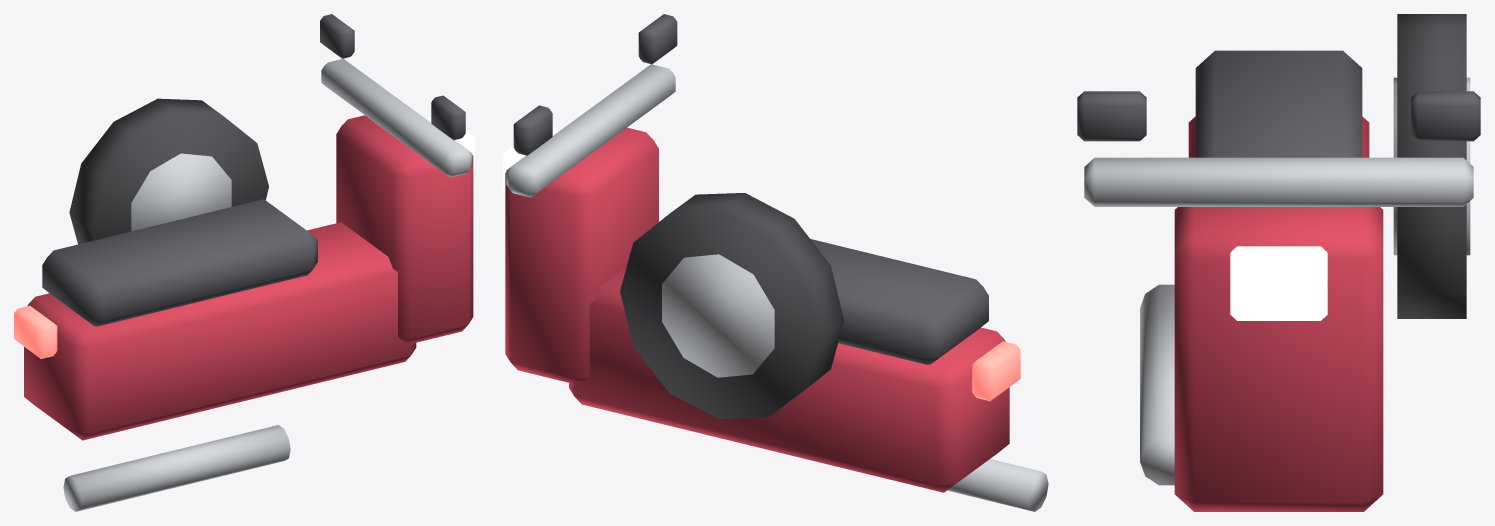
File: veh_motor.glb
The picture shows the model from 3 angles, left to right: view 1: azimuth 30°, elevation 25°; view 2: azimuth 150°, elevation 25°; view 3: azimuth 270°, elevation 25°; orthographic projection. The views are drawn at different scales.
Parts seen in each view (by area): view 1: VehMotor, Wheel_1, Wheel_0; view 2: VehMotor, Wheel_0, Wheel_1; view 3: VehMotor, Wheel_1, Wheel_0.
Part boxes in pixels (left/top/right/bottom): VehMotor: left=14, top=14, right=474, bottom=511; Wheel_1: left=70, top=100, right=268, bottom=244; Wheel_0: left=69, top=98, right=268, bottom=239; VehMotor: left=503, top=14, right=1048, bottom=511; Wheel_0: left=620, top=193, right=843, bottom=419; Wheel_1: left=620, top=194, right=843, bottom=418; VehMotor: left=1077, top=50, right=1480, bottom=511; Wheel_1: left=1393, top=27, right=1470, bottom=318; Wheel_0: left=1393, top=14, right=1470, bottom=318.
Size of the model in its own units: 1.09 by 0.793 by 0.58.
